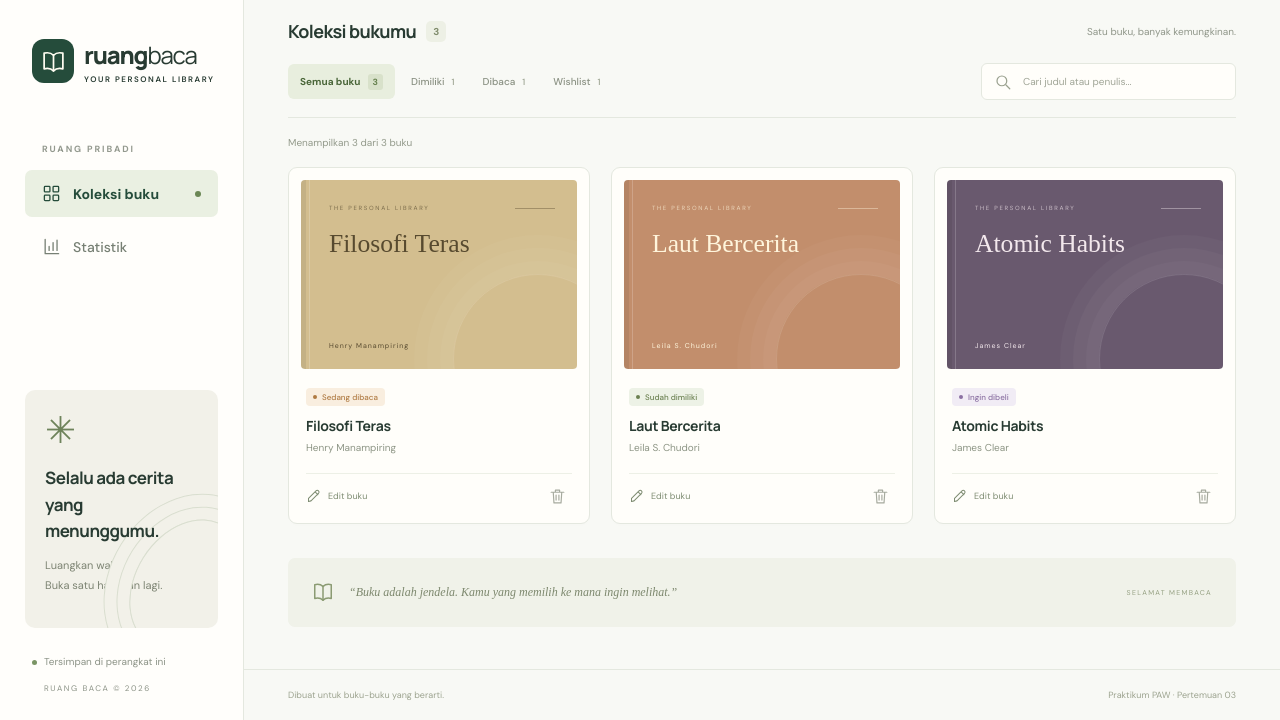
Test: Aplikasi manajemen buku › membatalkan penghapusan, lalu menghapus hanya setelah konfirmasi
This screenshot has width=1280, height=720.
(page scrolled)
Click the button named "Hapus Filosofi Teras" at (558,496), box [543,482,572,511]
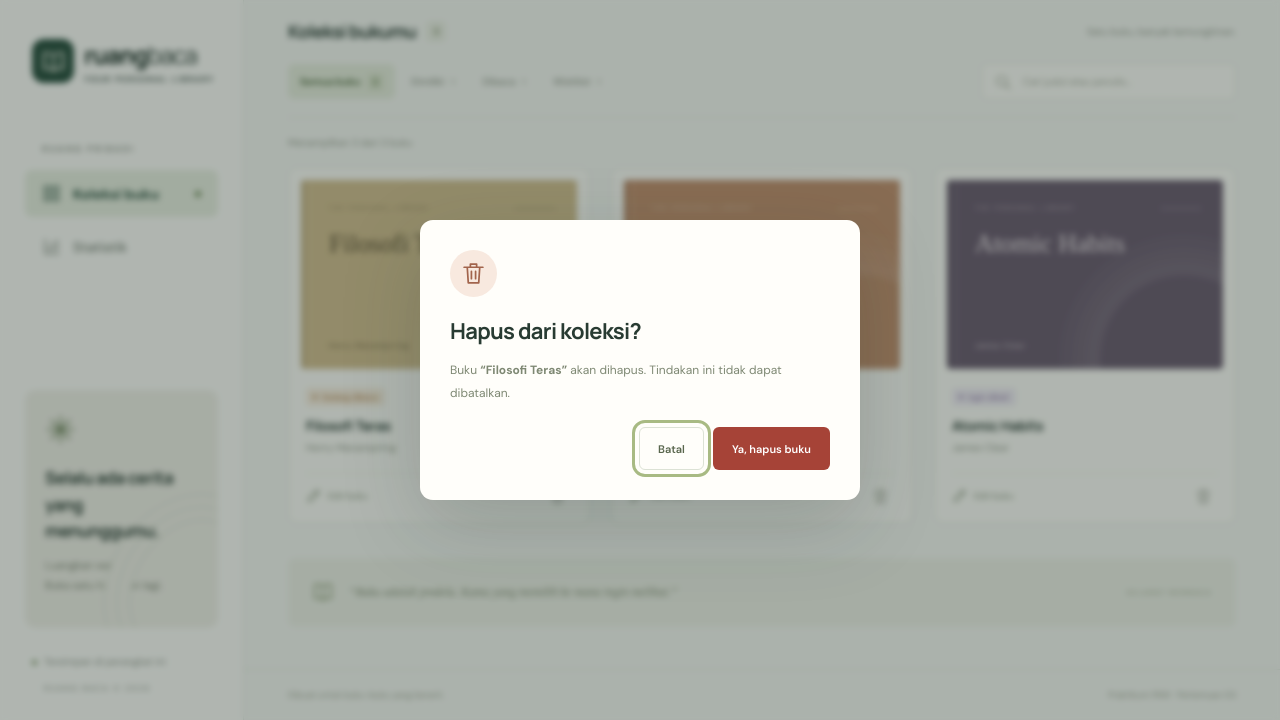
expect the dialog shows "Filosofi Teras": met, box [486,362,562,378]
Click the button "Batal" at (671,449), box [639,427,704,470]
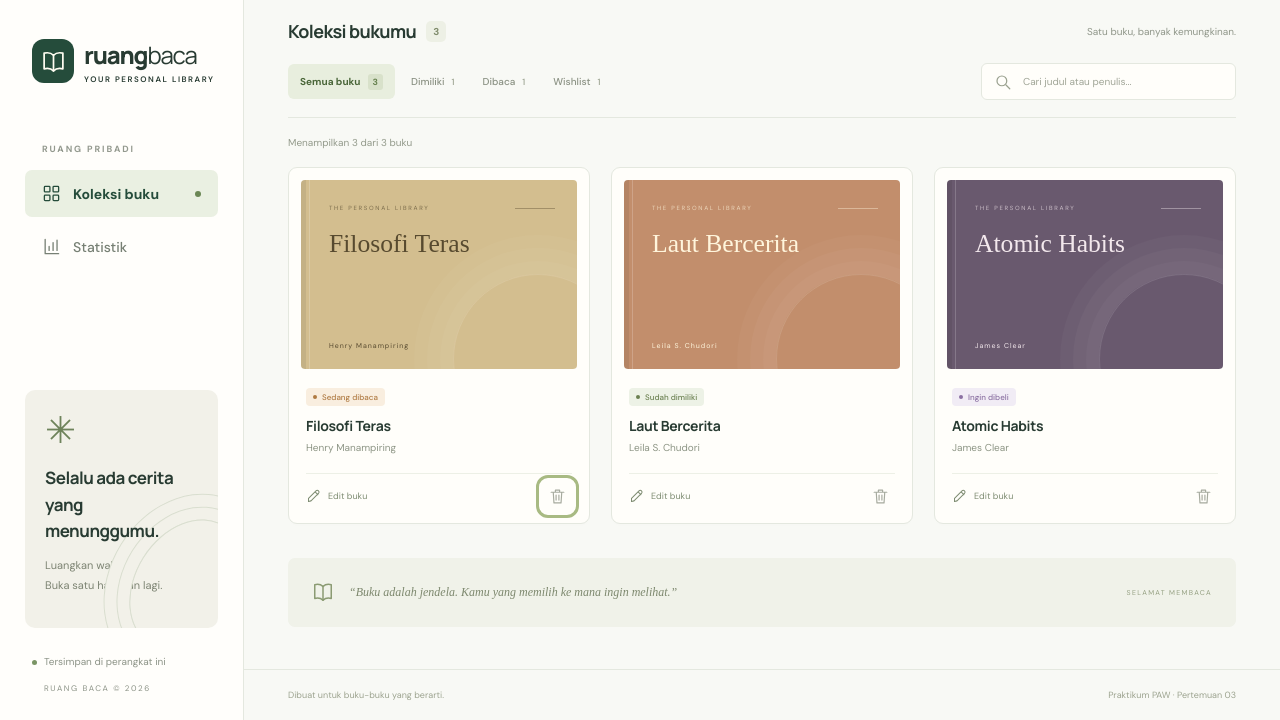
expect the heading "Filosofi Teras" is shown: met, box [306,416,391,435]
Click the button named "Hapus Filosofi Teras" at (558,496), box [543,482,572,511]
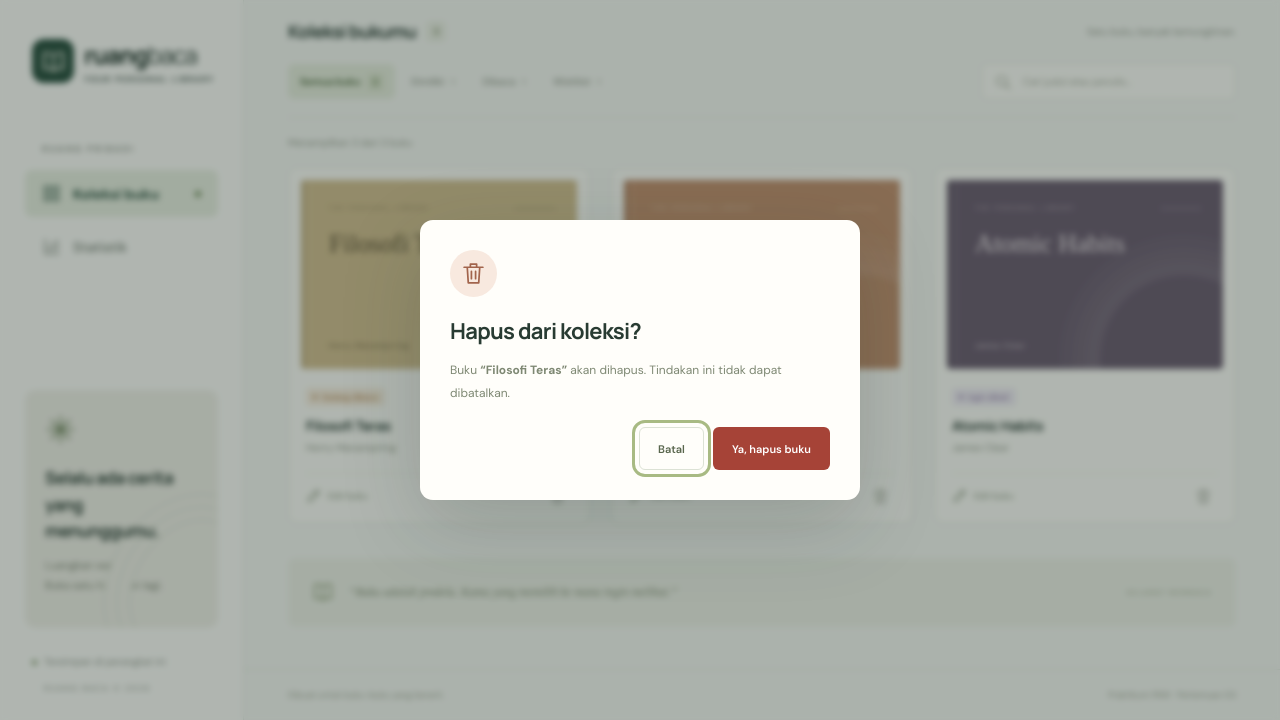
Click the button "Ya, hapus buku" at (771,449), box [713,427,830,470]
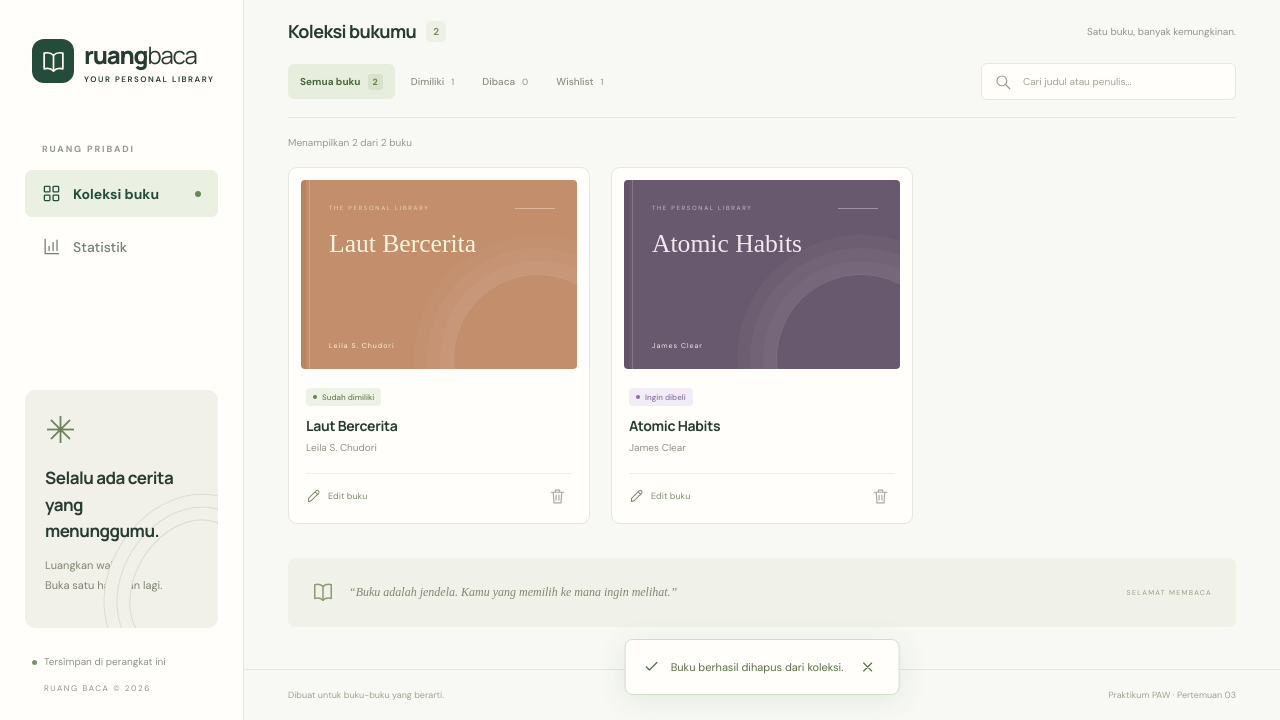
expect the text "Filosofi Teras" is gone: met
